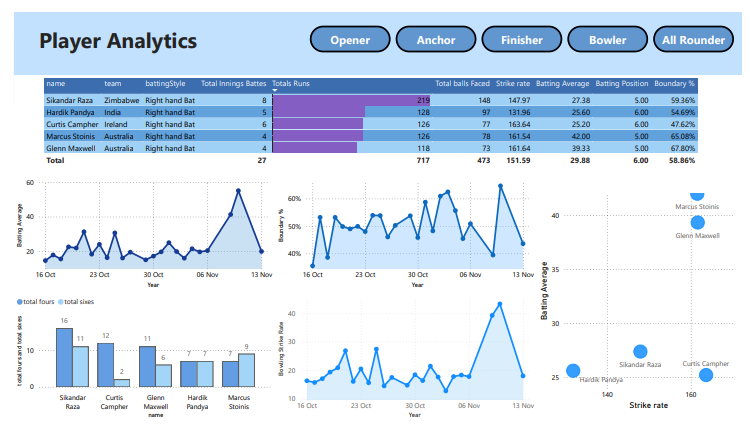

The page's visual inventory and layout, read from the dashboard file:
{"tool":"powerbi","page":{"name":"Finisher","canvas":[1280,720],"ordinal":2},"visuals":[{"type":"tableEx","fields":{"Values":["dim_players.name","dim_players.team","dim_players.battingStyle","key_measures.Total Innings Battes","key_measures.Totals Runs","key_measures.Total balls Faced","key_measures.Strike rate","key_measures.Batting Average","key_measures.Batting Position","key_measures.Boundary %"]},"box":[46.7,110,1186.7,176.7],"z":0},{"type":"lineChart","fields":{"Y":["key_measures.Batting Average"],"Category":["dim_match_summary.matchDate.Variation.Date Hierarchy.Year","dim_match_summary.matchDate.Variation.Date Hierarchy.Quarter","dim_match_summary.matchDate.Variation.Date Hierarchy.Month","dim_match_summary.matchDate.Variation.Date Hierarchy.Day"]},"box":[0,285,460,205],"z":1000},{"type":"clusteredColumnChart","fields":{"Category":["dim_players.name"],"Y":["key_measures.total fours","key_measures.total sixes"]},"box":[0,490,460,230],"z":2000},{"type":"scatterChart","fields":{"X":["key_measures.Strike rate"],"Y":["key_measures.Batting Average"],"Category":["dim_players.name"]},"box":[920,305,360,400],"z":3000},{"type":"lineChart","fields":{"Y":["key_measures.Boundary %"],"Category":["dim_match_summary.matchDate.Variation.Date Hierarchy.Year","dim_match_summary.matchDate.Variation.Date Hierarchy.Quarter","dim_match_summary.matchDate.Variation.Date Hierarchy.Month","dim_match_summary.matchDate.Variation.Date Hierarchy.Day"]},"box":[460,286.7,460,203.3],"z":4000},{"type":"textbox","box":[0,0,1280,110],"z":5000},{"type":"lineChart","fields":{"Y":["key_measures.Bowling Strike Rate"],"Category":["dim_match_summary.matchDate.Variation.Date Hierarchy.Year","dim_match_summary.matchDate.Variation.Date Hierarchy.Quarter","dim_match_summary.matchDate.Variation.Date Hierarchy.Month","dim_match_summary.matchDate.Variation.Date Hierarchy.Day"]},"box":[460,490,460,230],"z":6000},{"type":"actionButton","box":[672.4,23.3,141.3,46.7],"z":7000},{"type":"actionButton","box":[823.3,23.3,141.3,46.7],"z":8000},{"type":"actionButton","box":[974.3,23.3,141.3,46.7],"z":9000},{"type":"actionButton","box":[1125.2,23.3,141.3,46.7],"z":10000},{"type":"actionButton","box":[521.4,23.3,141.3,46.7],"z":11000}]}

Visuals, with their boxes in screenshot pixels (x1, y1, x2, y2), scaled from the page's 1280x720 canvas onto the 750x432 screenshot:
tableEx - dim_players.name x dim_players.team: (left=27, top=66, right=723, bottom=172)
lineChart - key_measures.Batting Average x dim_match_summary.matchDate.Variation.Date Hierarchy.Year: (left=0, top=171, right=270, bottom=294)
clusteredColumnChart - dim_players.name x key_measures.total fours: (left=0, top=294, right=270, bottom=431)
scatterChart - key_measures.Strike rate x key_measures.Batting Average: (left=539, top=183, right=749, bottom=423)
lineChart - key_measures.Boundary % x dim_match_summary.matchDate.Variation.Date Hierarchy.Year: (left=270, top=172, right=539, bottom=294)
textbox: (left=0, top=0, right=749, bottom=66)
lineChart - key_measures.Bowling Strike Rate x dim_match_summary.matchDate.Variation.Date Hierarchy.Year: (left=270, top=294, right=539, bottom=431)
actionButton: (left=394, top=14, right=477, bottom=42)
actionButton: (left=482, top=14, right=565, bottom=42)
actionButton: (left=571, top=14, right=654, bottom=42)
actionButton: (left=659, top=14, right=742, bottom=42)
actionButton: (left=306, top=14, right=388, bottom=42)
